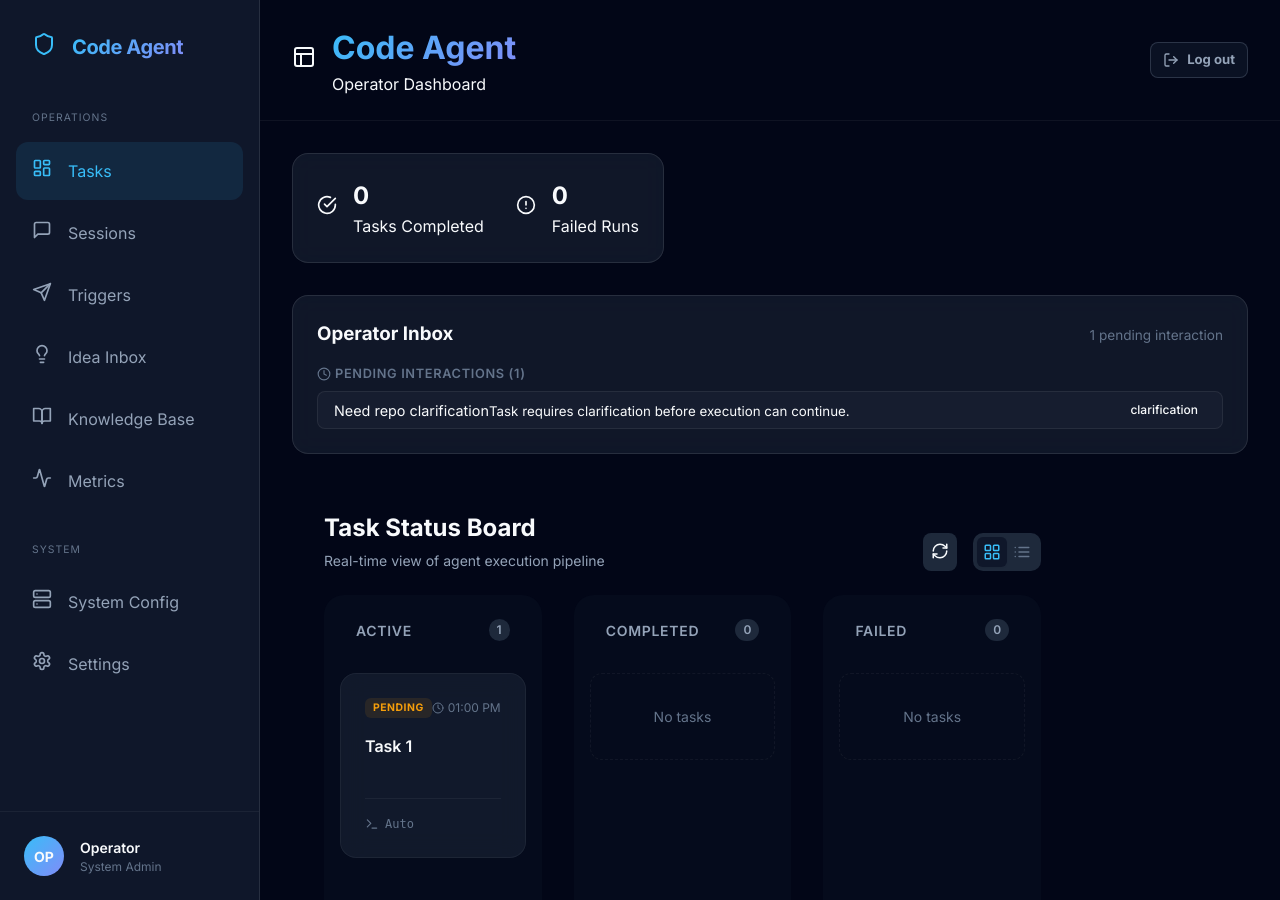
App › stops polling and does not retry when API returns 404 for task detail
Check: the heading "Task Status Board" is shown, box [324,513,536,542]
Click the heading "Task 1". click: point(389, 746)
box: [365,736,412,756]
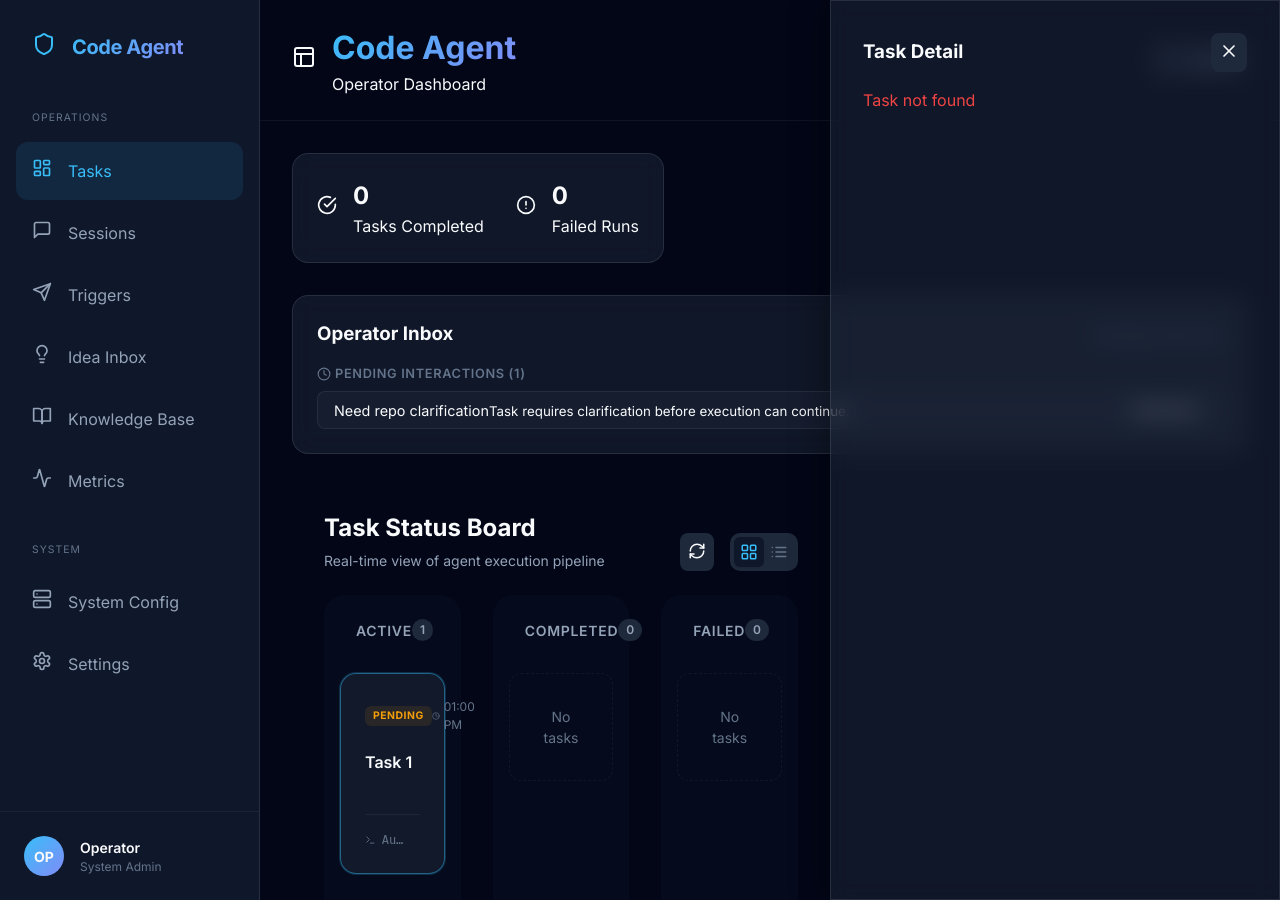
Check: the text "Task not found" is shown, box [863,90,975,110]
